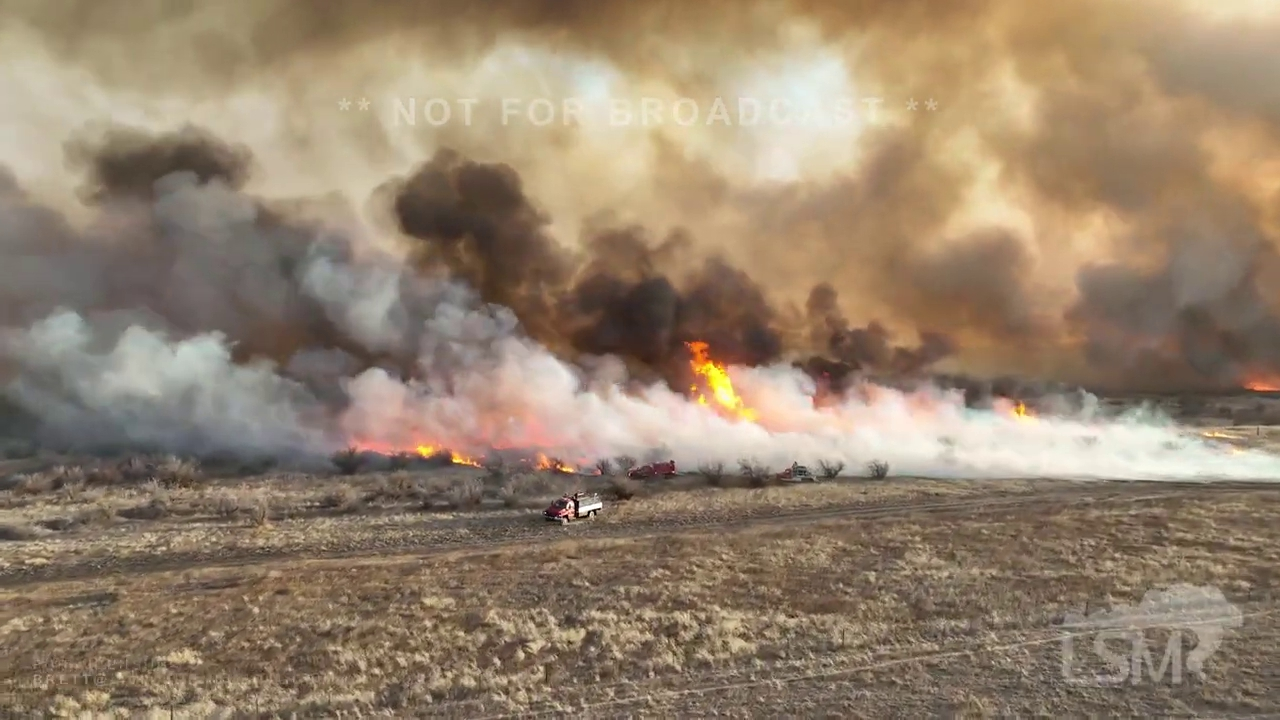forest_fire: (685, 341, 756, 420), (413, 444, 479, 465)
